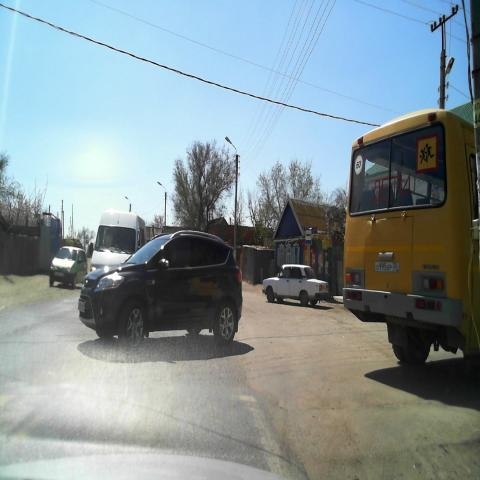5_16: (305, 228, 313, 244)
